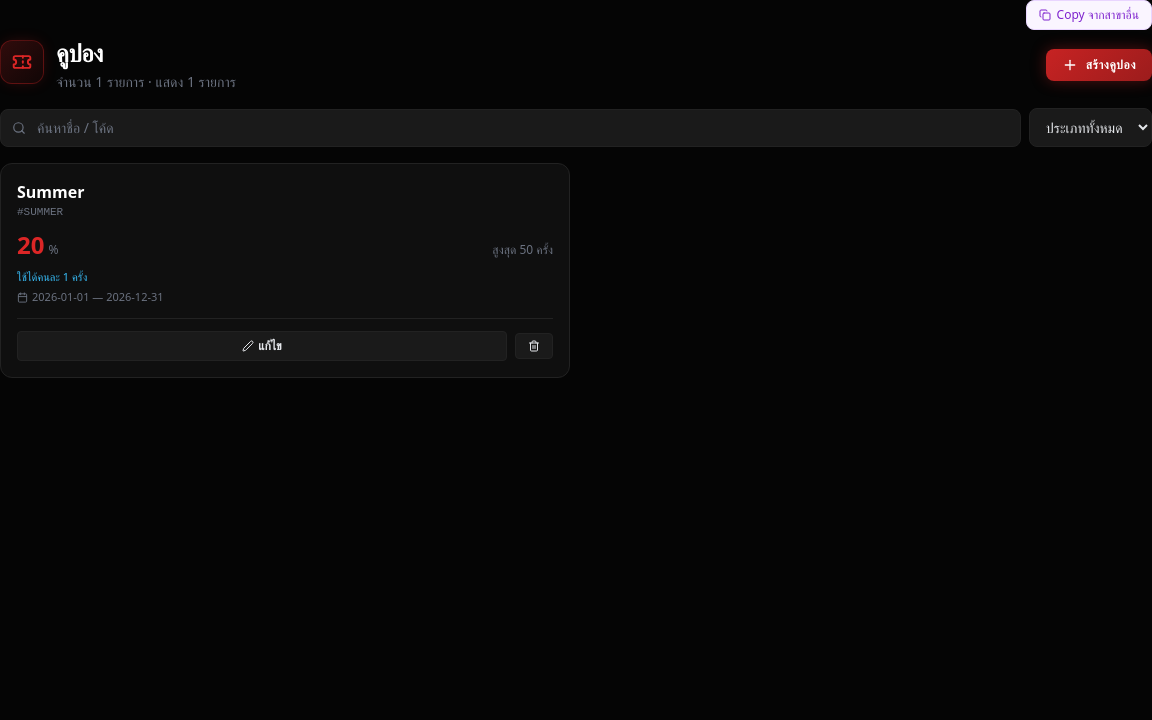
Scenario: CouponTab — edit flow › CE1 edit opens modal with existing values
Click the button "แก้ไข" at point(262, 346), box left=17, top=330, right=507, bottom=360
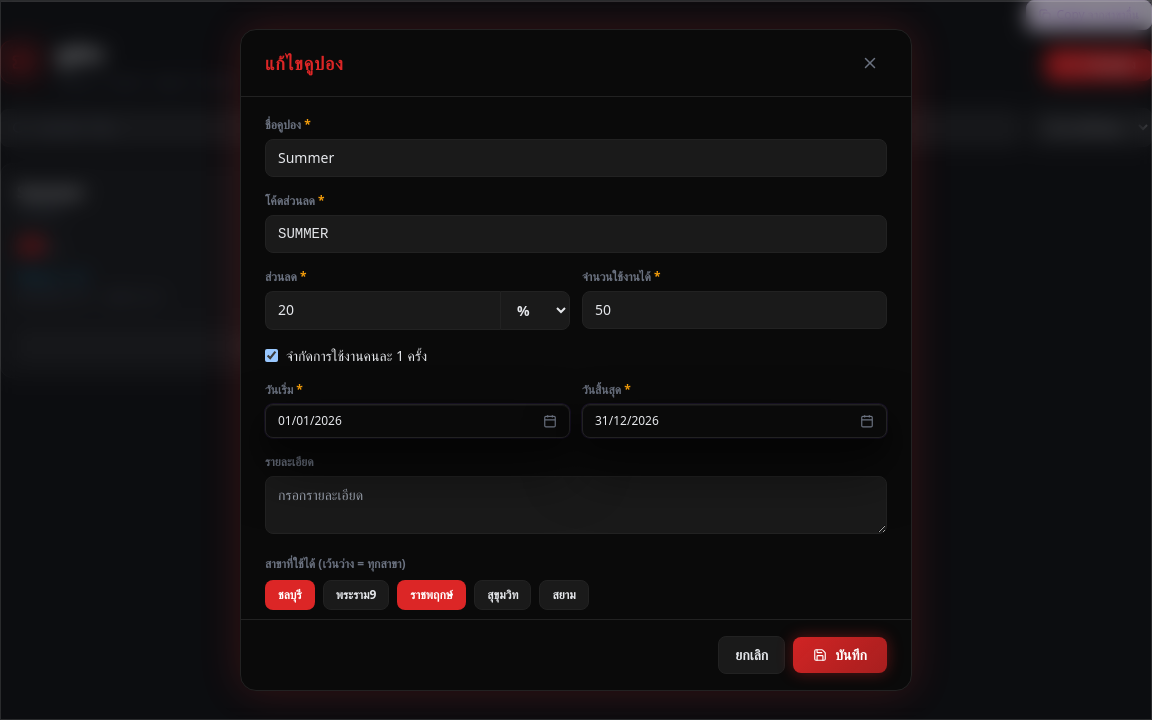
Check: the heading "แก้ไขคูปอง" is shown, box left=265, top=49, right=344, bottom=77
Check: the field showing "Summer" below "ชื่อคูปอง" is shown, box left=265, top=139, right=887, bottom=177
Check: the field showing "SUMMER" below "โค้ดส่วนลด" is shown, box left=265, top=215, right=887, bottom=253
